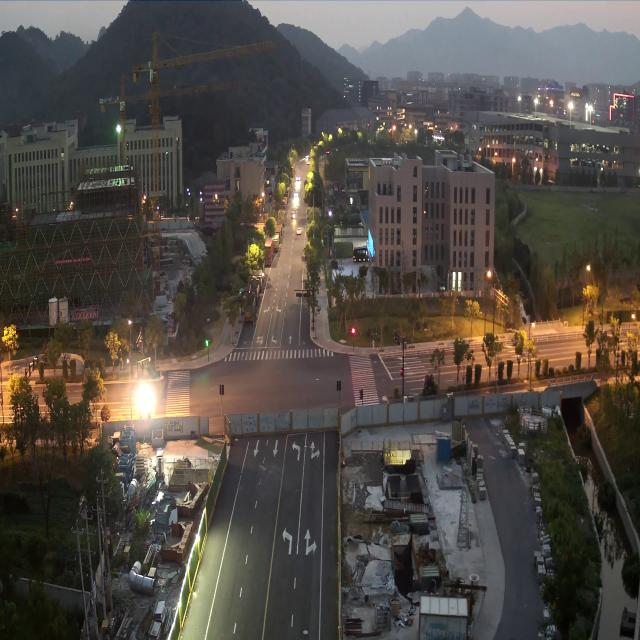UAV: (233, 286, 251, 302)
